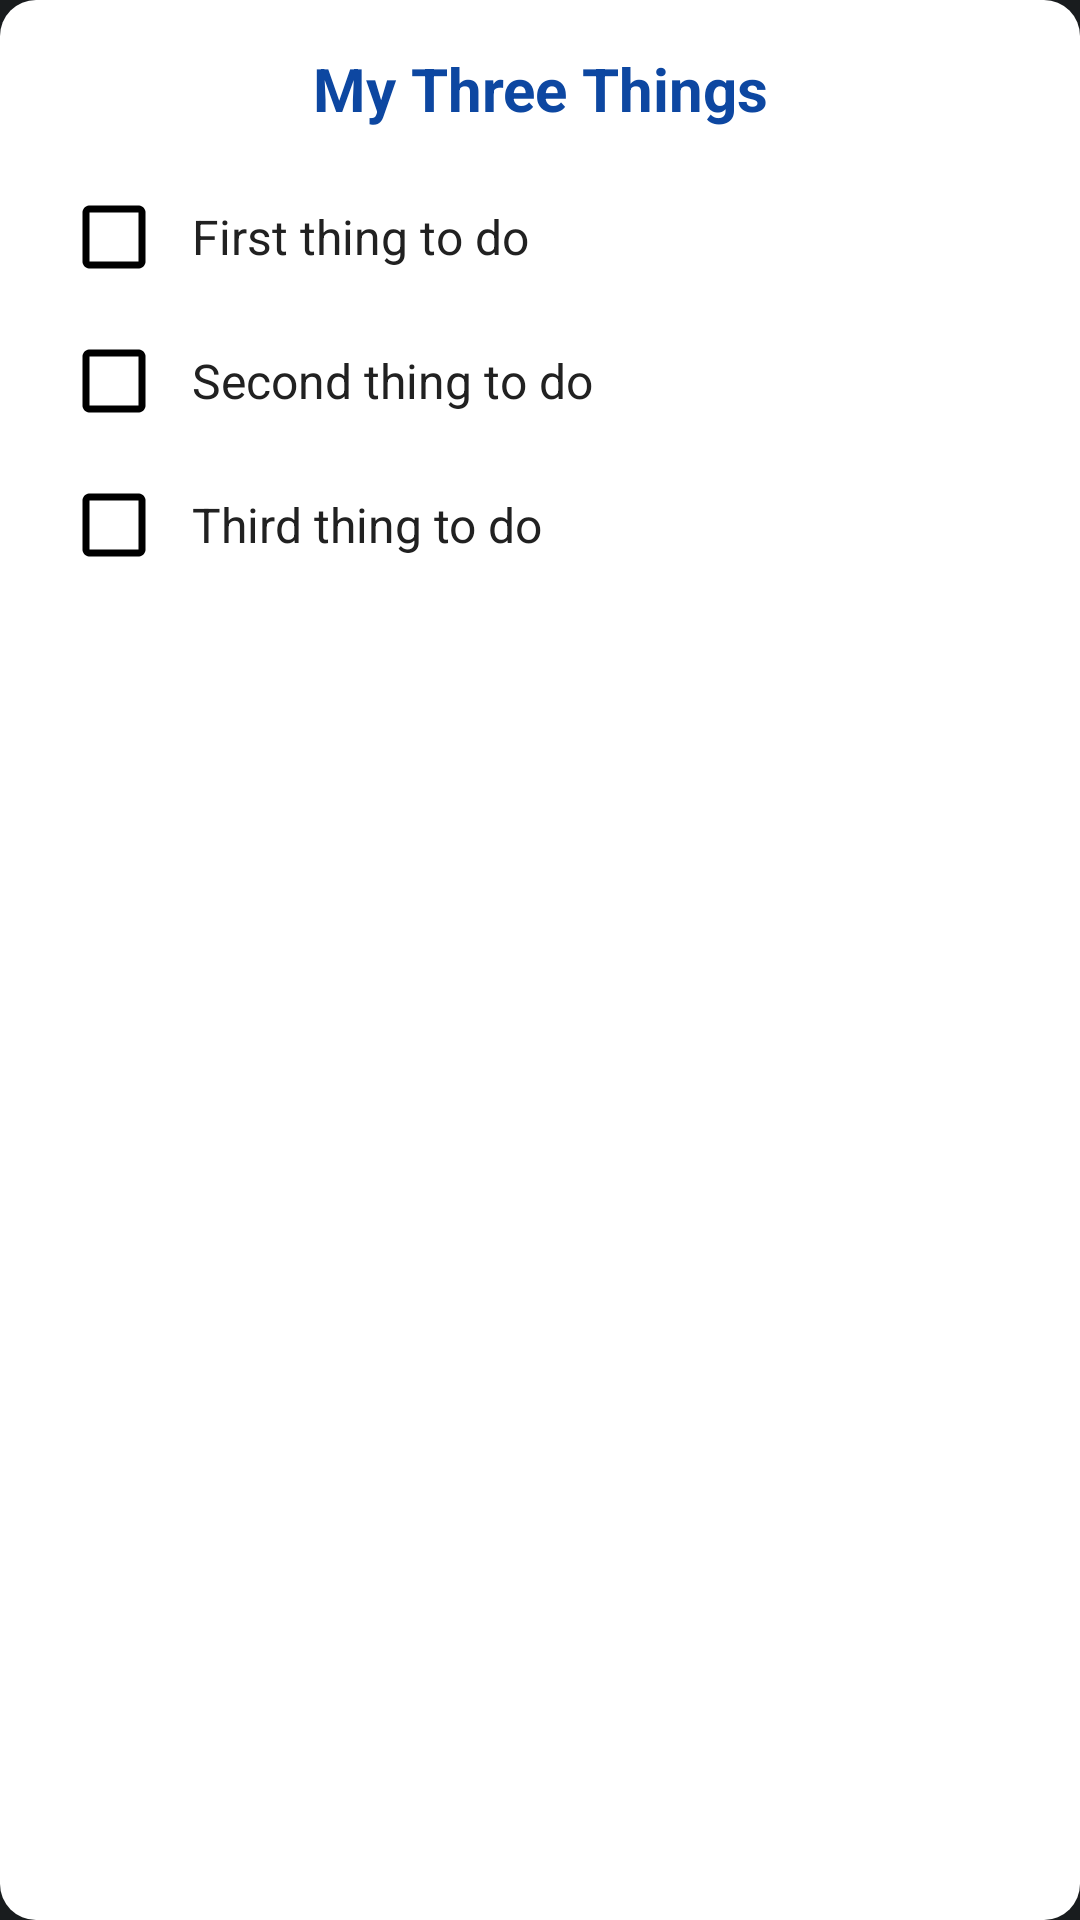

Named icons in this screenshot (1080 x 1920) and their bounding boxes, BBox(x1, y1, x2, y2):
Task 1 status: BBox(82, 205, 146, 269)
Task 2 status: BBox(82, 349, 146, 413)
Task 3 status: BBox(82, 493, 146, 557)
